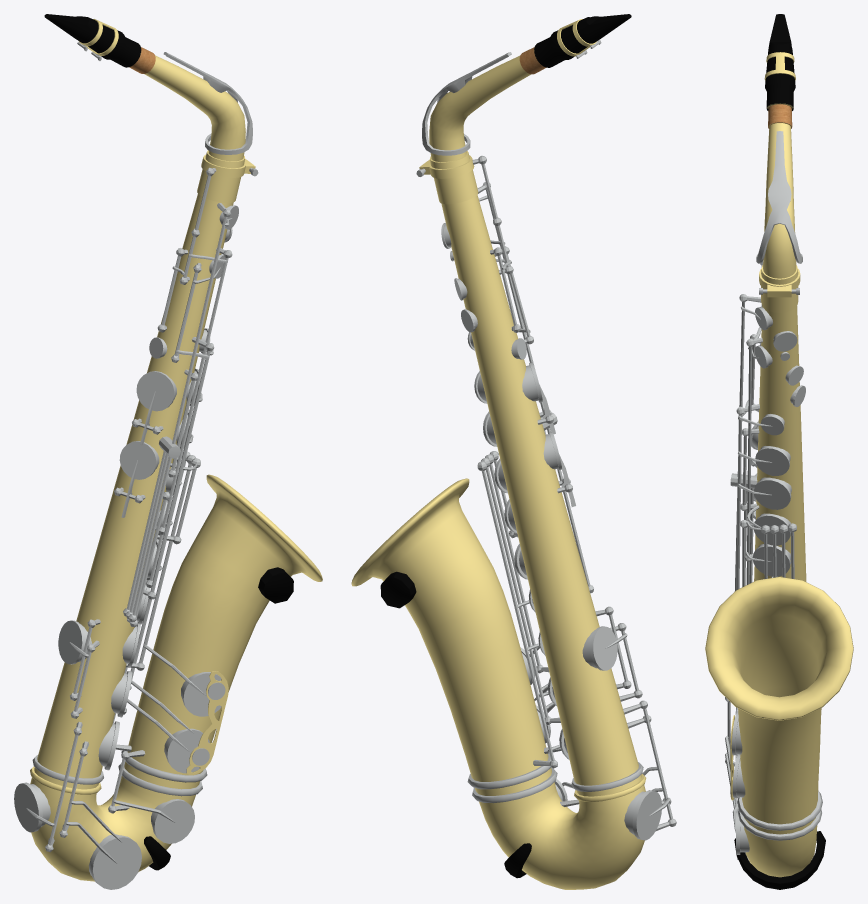
The model's file is saxophone.glb.
The picture shows the model from 3 angles, left to right: view 1: azimuth 30°, elevation 25°; view 2: azimuth 150°, elevation 25°; view 3: azimuth 270°, elevation 25°; orthographic projection. The views are drawn at different scales.
Visible parts, largest first — view 1: Saxophone; view 2: Saxophone; view 3: Saxophone.
Part boxes in pixels (x1,y1,x2,y2): Saxophone: (14,14,322,889); Saxophone: (351,14,676,889); Saxophone: (705,14,853,889).
Size of the model in its own units: 33 by 97.18 by 15.77.
1 material, 1 textured.
